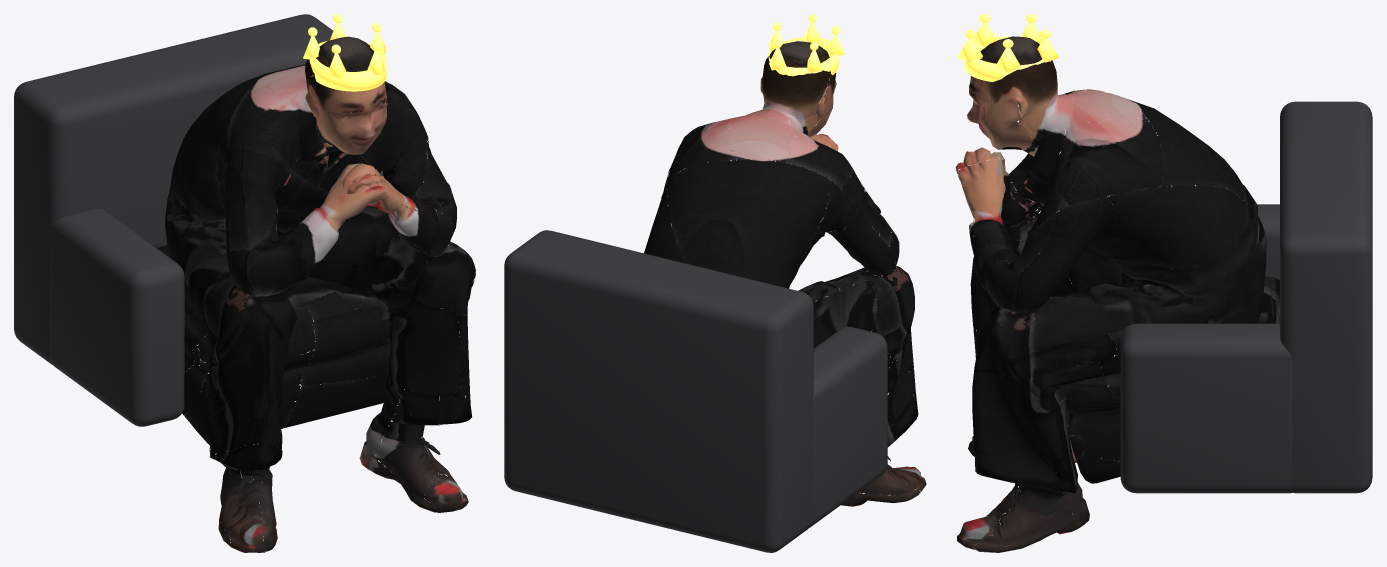
File: person_black.glb
3 views of the same model, side by side, from view 1: azimuth 30°, elevation 25°; view 2: azimuth 150°, elevation 25°; view 3: azimuth 270°, elevation 25° (orthographic). The views are drawn at different scales.
Parts seen in each view (by area): view 1: tripo_node_73bbc238-7c02-4fb2-96ef-c8f1fab85f19, backrest, armrest_left, crown; view 2: backrest, tripo_node_73bbc238-7c02-4fb2-96ef-c8f1fab85f19, armrest_left, crown; view 3: tripo_node_73bbc238-7c02-4fb2-96ef-c8f1fab85f19, backrest, armrest_right, crown, armrest_left.
Boxes of the visible parts, x1,y1,x2,y2 form: tripo_node_73bbc238-7c02-4fb2-96ef-c8f1fab85f19: [153, 36, 475, 552]; backrest: [14, 14, 348, 364]; armrest_left: [49, 208, 184, 426]; crown: [303, 14, 386, 91]; backrest: [504, 230, 813, 552]; tripo_node_73bbc238-7c02-4fb2-96ef-c8f1fab85f19: [644, 41, 926, 506]; armrest_left: [809, 326, 887, 527]; crown: [768, 14, 844, 76]; tripo_node_73bbc238-7c02-4fb2-96ef-c8f1fab85f19: [955, 36, 1279, 552]; backrest: [1280, 101, 1372, 493]; armrest_right: [1120, 323, 1292, 493]; crown: [957, 14, 1058, 81]; armrest_left: [1128, 204, 1279, 322].
Size of the model in its own units: 0.67 by 1.03 by 0.8111.
3 materials, 1 textured.
